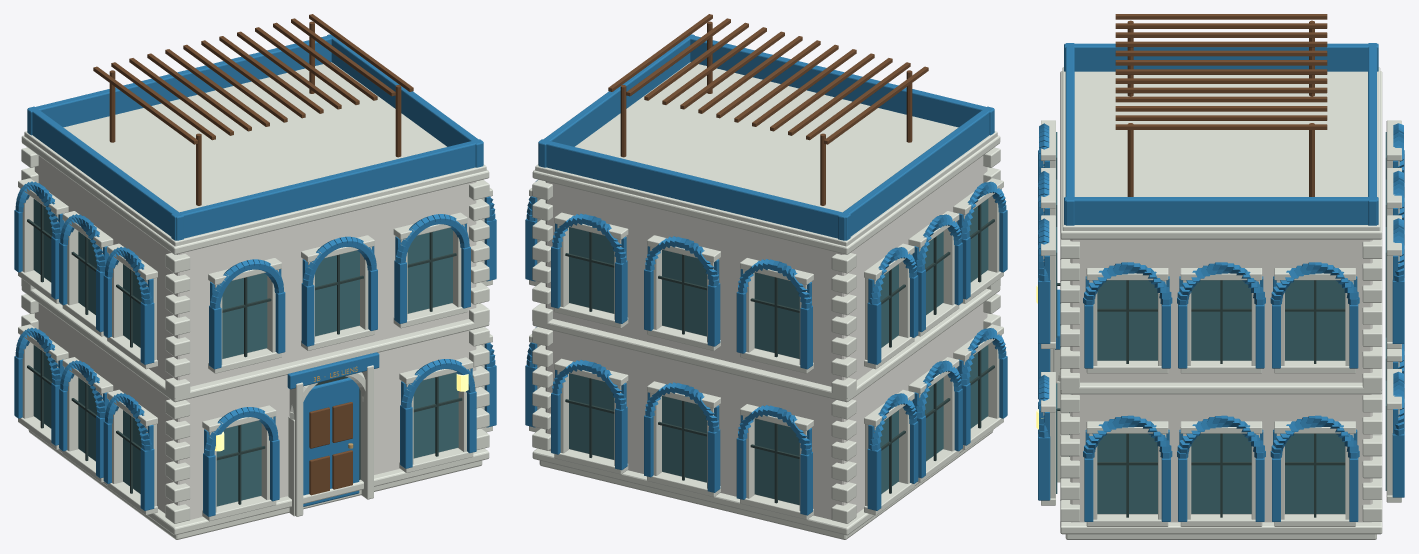
Rendered from tunisie-2.glb.
3 renders of one model, left to right at view 1: azimuth 30°, elevation 25°; view 2: azimuth 150°, elevation 25°; view 3: azimuth 270°, elevation 25°, orthographic. The views are drawn at different scales.
Parts seen in each view (by area): view 1: tunisie-2_Dressed stone.004, tunisie-2_Regional painted wood.004, tunisie-2_Masonry plaster.004, tunisie-2_Window blue, tunisie-2_Walnut, tunisie-2_Forged midnight; view 2: tunisie-2_Dressed stone.004, tunisie-2_Regional painted wood.004, tunisie-2_Masonry plaster.004, tunisie-2_Window blue, tunisie-2_Walnut, tunisie-2_Forged midnight; view 3: tunisie-2_Dressed stone.004, tunisie-2_Regional painted wood.004, tunisie-2_Window blue, tunisie-2_Masonry plaster.004, tunisie-2_Walnut, tunisie-2_Forged midnight.
Part boxes in pixels (x1=…): tunisie-2_Dressed stone.004: x1=18, y1=62, x2=492, y2=539; tunisie-2_Regional painted wood.004: x1=14, y1=34, x2=496, y2=516; tunisie-2_Masonry plaster.004: x1=34, y1=156, x2=476, y2=519; tunisie-2_Window blue: x1=33, y1=199, x2=458, y2=506; tunisie-2_Walnut: x1=93, y1=14, x2=413, y2=495; tunisie-2_Forged midnight: x1=27, y1=204, x2=462, y2=504; tunisie-2_Dressed stone.004: x1=529, y1=62, x2=1003, y2=539; tunisie-2_Regional painted wood.004: x1=525, y1=34, x2=1007, y2=515; tunisie-2_Masonry plaster.004: x1=545, y1=156, x2=987, y2=519; tunisie-2_Window blue: x1=569, y1=199, x2=988, y2=504; tunisie-2_Walnut: x1=608, y1=14, x2=928, y2=205; tunisie-2_Forged midnight: x1=565, y1=204, x2=994, y2=503; tunisie-2_Dressed stone.004: x1=1041, y1=67, x2=1401, y2=539; tunisie-2_Regional painted wood.004: x1=1038, y1=43, x2=1404, y2=521; tunisie-2_Window blue: x1=1056, y1=132, x2=1386, y2=513; tunisie-2_Masonry plaster.004: x1=1070, y1=239, x2=1372, y2=522; tunisie-2_Walnut: x1=1115, y1=14, x2=1327, y2=196; tunisie-2_Forged midnight: x1=1057, y1=280, x2=1345, y2=517.
Size of the model in its own units: 14.12 by 14.27 by 12.18.
